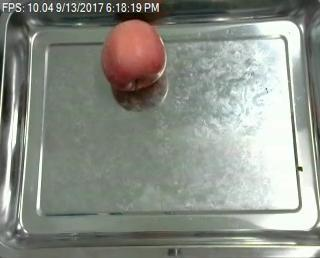apple: (99, 17, 166, 93)
